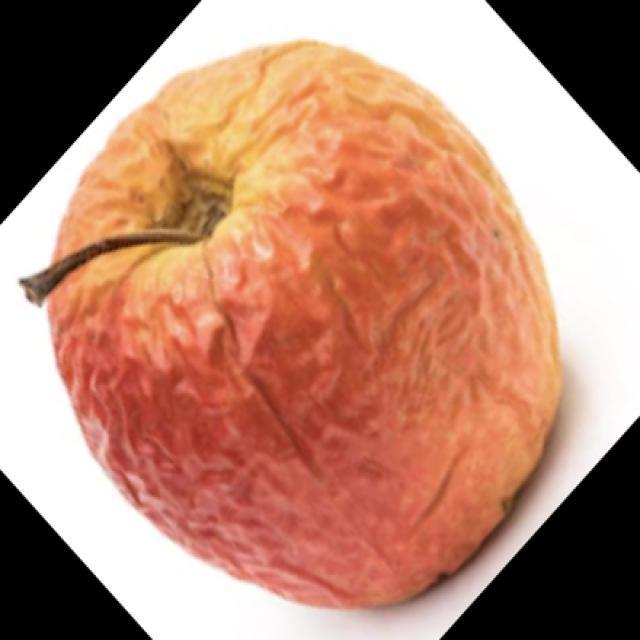Rotten: (54, 58, 578, 577)
